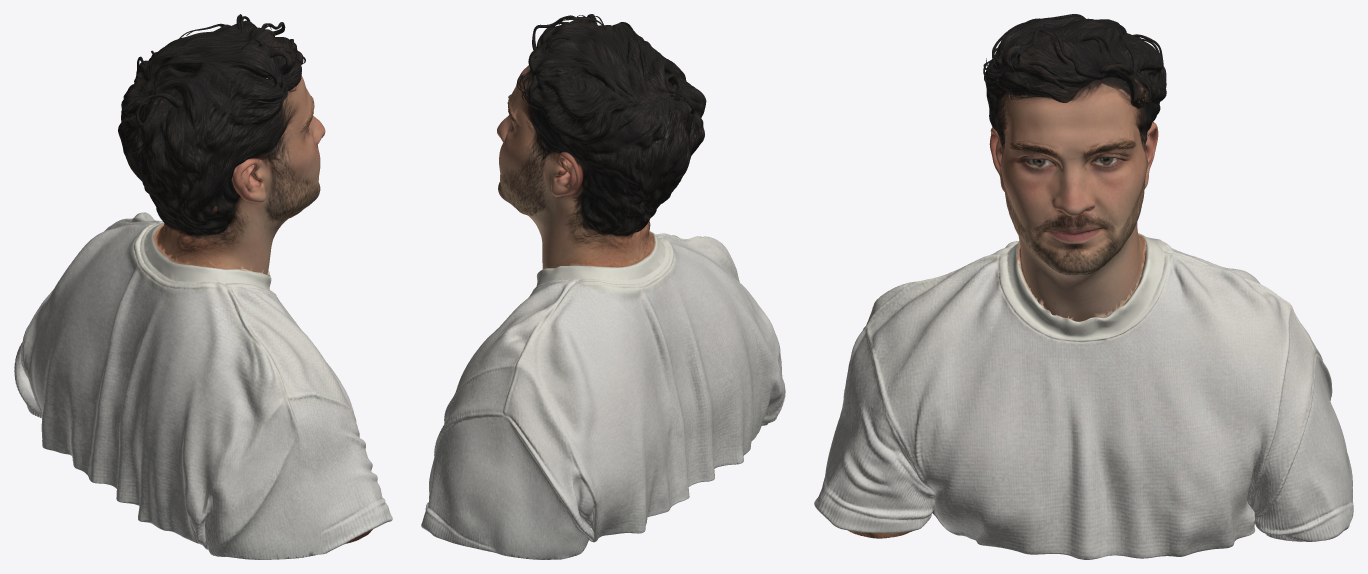
Rendered from head2_opt.glb.
3 views of the same model, side by side, from view 1: azimuth 30°, elevation 25°; view 2: azimuth 150°, elevation 25°; view 3: azimuth 270°, elevation 25° (orthographic). The views are drawn at different scales.
Visible parts, largest first — view 1: tripo_node_08bc541e-a337-4294-a252-d6419257308f; view 2: tripo_node_08bc541e-a337-4294-a252-d6419257308f; view 3: tripo_node_08bc541e-a337-4294-a252-d6419257308f.
Boxes of the visible parts, box(x1,y1,x2,y2) form: tripo_node_08bc541e-a337-4294-a252-d6419257308f: box(14, 14, 392, 559); tripo_node_08bc541e-a337-4294-a252-d6419257308f: box(421, 14, 785, 559); tripo_node_08bc541e-a337-4294-a252-d6419257308f: box(814, 14, 1353, 559).
Size of the model in its own units: 0.5093 by 0.9798 by 0.9774.
Materials: 1 (1 with a texture image).
